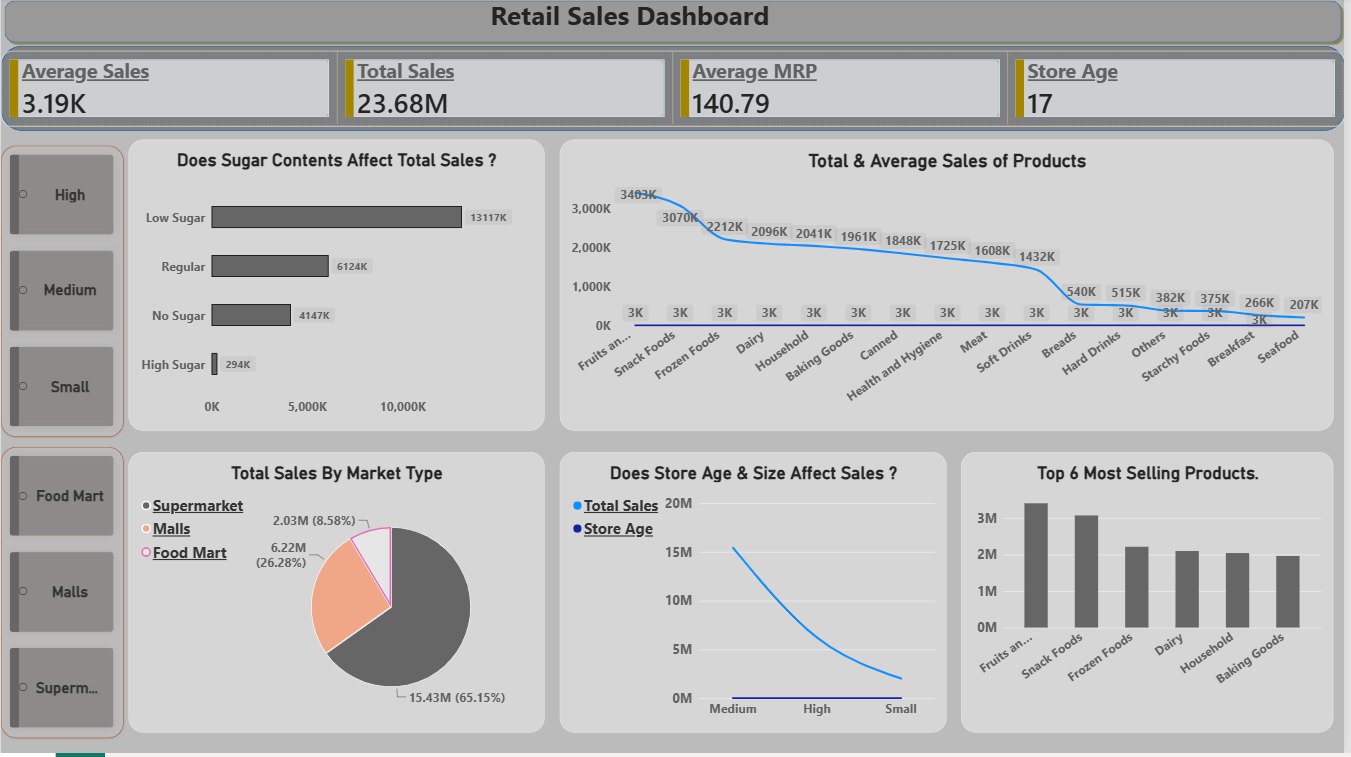

The page's visual inventory and layout, read from the dashboard file:
{"tool":"powerbi","page":{"name":"Page 1","canvas":[1920,1080],"ordinal":0},"visuals":[{"type":"shape","box":[0,0,1920,70],"z":0},{"type":"textbox","box":[0,0,1786.7,58.3],"z":1000},{"type":"shape","box":[0,70,1920,121.7],"z":2000},{"type":"cardVisual","fields":{"Data":["retail_sales.Average Sales","retail_sales.Total Sales","retail_sales.Average Mrp","retail_sales.Store Age"]},"box":[0,76.8,1919.7,108.9],"z":3000},{"type":"barChart","title":"Does Sugar Contents Affect Total Sales ?","fields":{"Category":["retail_sales.product_sugar_content"],"Y":["Sum(retail_sales.product_store_sales_total)"]},"box":[182.4,203.1,594.4,415.7],"z":4000},{"type":"lineChart","title":"Total &  Average Sales of Products","fields":{"Category":["retail_sales.product_type"],"Y":["retail_sales.Total Sales","retail_sales.Average Sales"]},"box":[797.5,203.1,1106,415.7],"z":5000},{"type":"pieChart","title":"Total Sales By Market Type","fields":{"Category":["retail_sales.store_type"],"Y":["retail_sales.Total Sales"]},"box":[182.4,650.8,594.4,400.6],"z":6000},{"type":"lineChart","title":"Does Store Age & Size Affect Sales ?","fields":{"Category":["retail_sales.store_size"],"Y":["retail_sales.Total Sales","retail_sales.Store Age"]},"box":[797.5,650.8,553,400.6],"z":6001},{"type":"clusteredColumnChart","title":"Top 6 Most Selling Products.","fields":{"Category":["retail_sales.product_type"],"Y":["retail_sales.Total Sales"]},"box":[1371.2,650.8,532.3,400.6],"z":6002},{"type":"advancedSlicerVisual","fields":{"Values":["retail_sales.store_type"]},"box":[0,643.3,174.9,415.7],"z":6003},{"type":"advancedSlicerVisual","fields":{"Values":["retail_sales.store_size"]},"box":[0,212.5,174.9,415.7],"z":6004}]}

Visuals, with their boxes in screenshot pixels (x1, y1, x2, y2), scaled from the page's 1920x1080 canvas onto the 1351x757 screenshot:
shape: pyautogui.locateOnScreen(0, 0, 1350, 49)
textbox: pyautogui.locateOnScreen(0, 0, 1257, 41)
shape: pyautogui.locateOnScreen(0, 49, 1350, 134)
cardVisual - retail_sales.Average Sales x retail_sales.Total Sales: pyautogui.locateOnScreen(0, 54, 1350, 130)
"Does Sugar Contents Affect Total Sales ?" barChart: pyautogui.locateOnScreen(128, 142, 547, 434)
"Total &  Average Sales of Products" lineChart: pyautogui.locateOnScreen(561, 142, 1339, 434)
"Total Sales By Market Type" pieChart: pyautogui.locateOnScreen(128, 456, 547, 737)
"Does Store Age & Size Affect Sales ?" lineChart: pyautogui.locateOnScreen(561, 456, 950, 737)
"Top 6 Most Selling Products." clusteredColumnChart: pyautogui.locateOnScreen(965, 456, 1339, 737)
advancedSlicerVisual - retail_sales.store_type: pyautogui.locateOnScreen(0, 451, 123, 742)
advancedSlicerVisual - retail_sales.store_size: pyautogui.locateOnScreen(0, 149, 123, 440)
